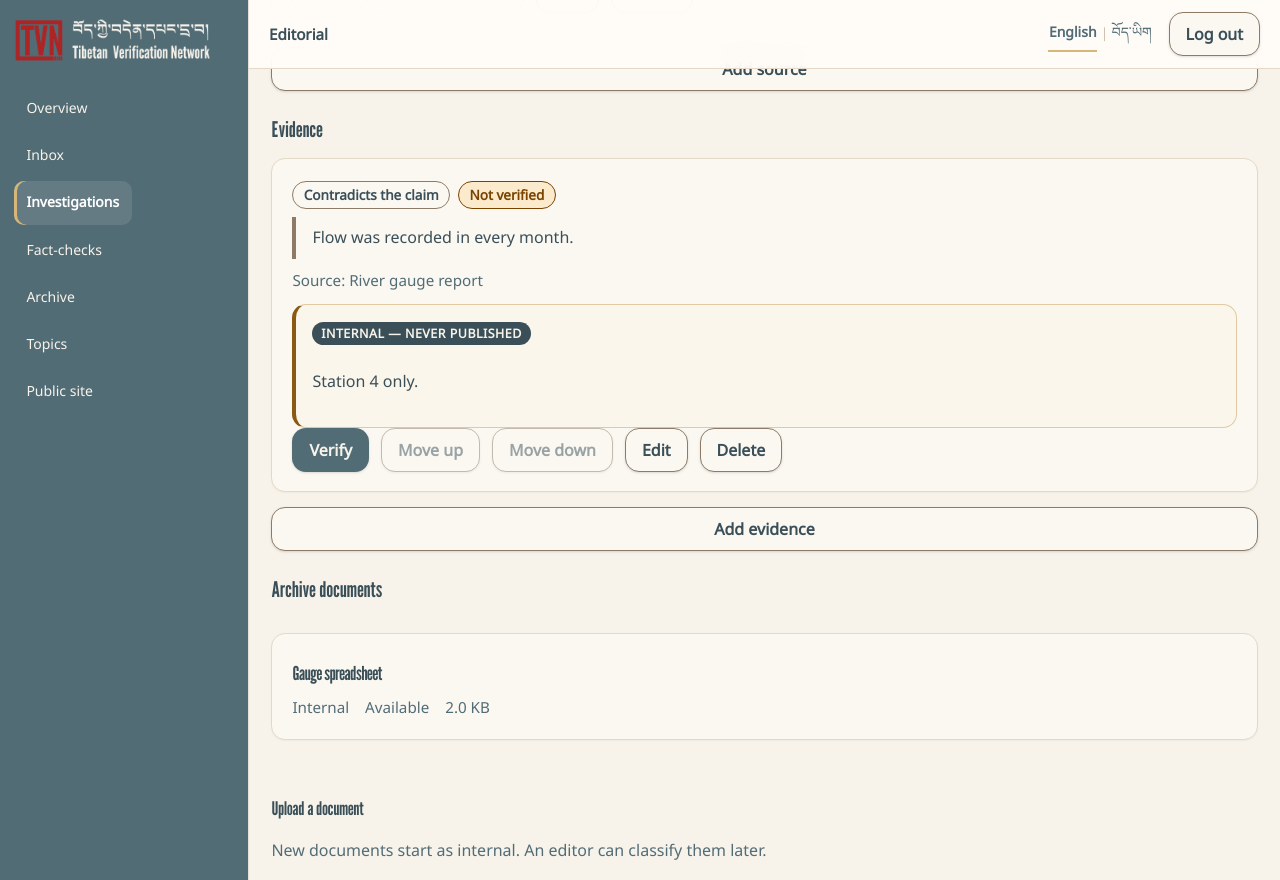
Test case: hidden controls are not security › shows a 403 from a write as a permission message, not a crash
The image size is (1280, 880).
(page scrolled)
Click the button with aria-label "Verify evidence 1": (331, 450) [292,428,369,472]
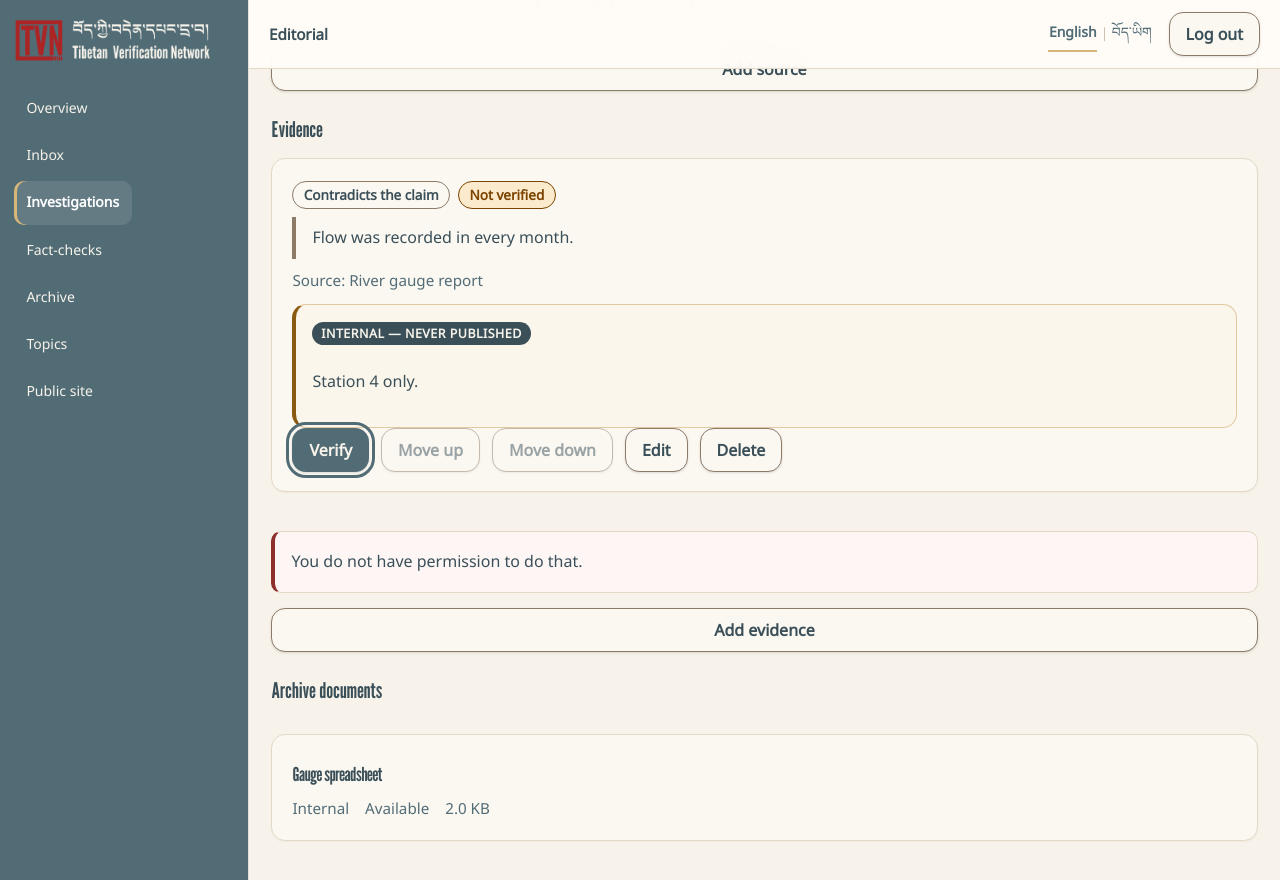
Now the message reads "You do not have permission to do that.", box [291,550,582,572]
